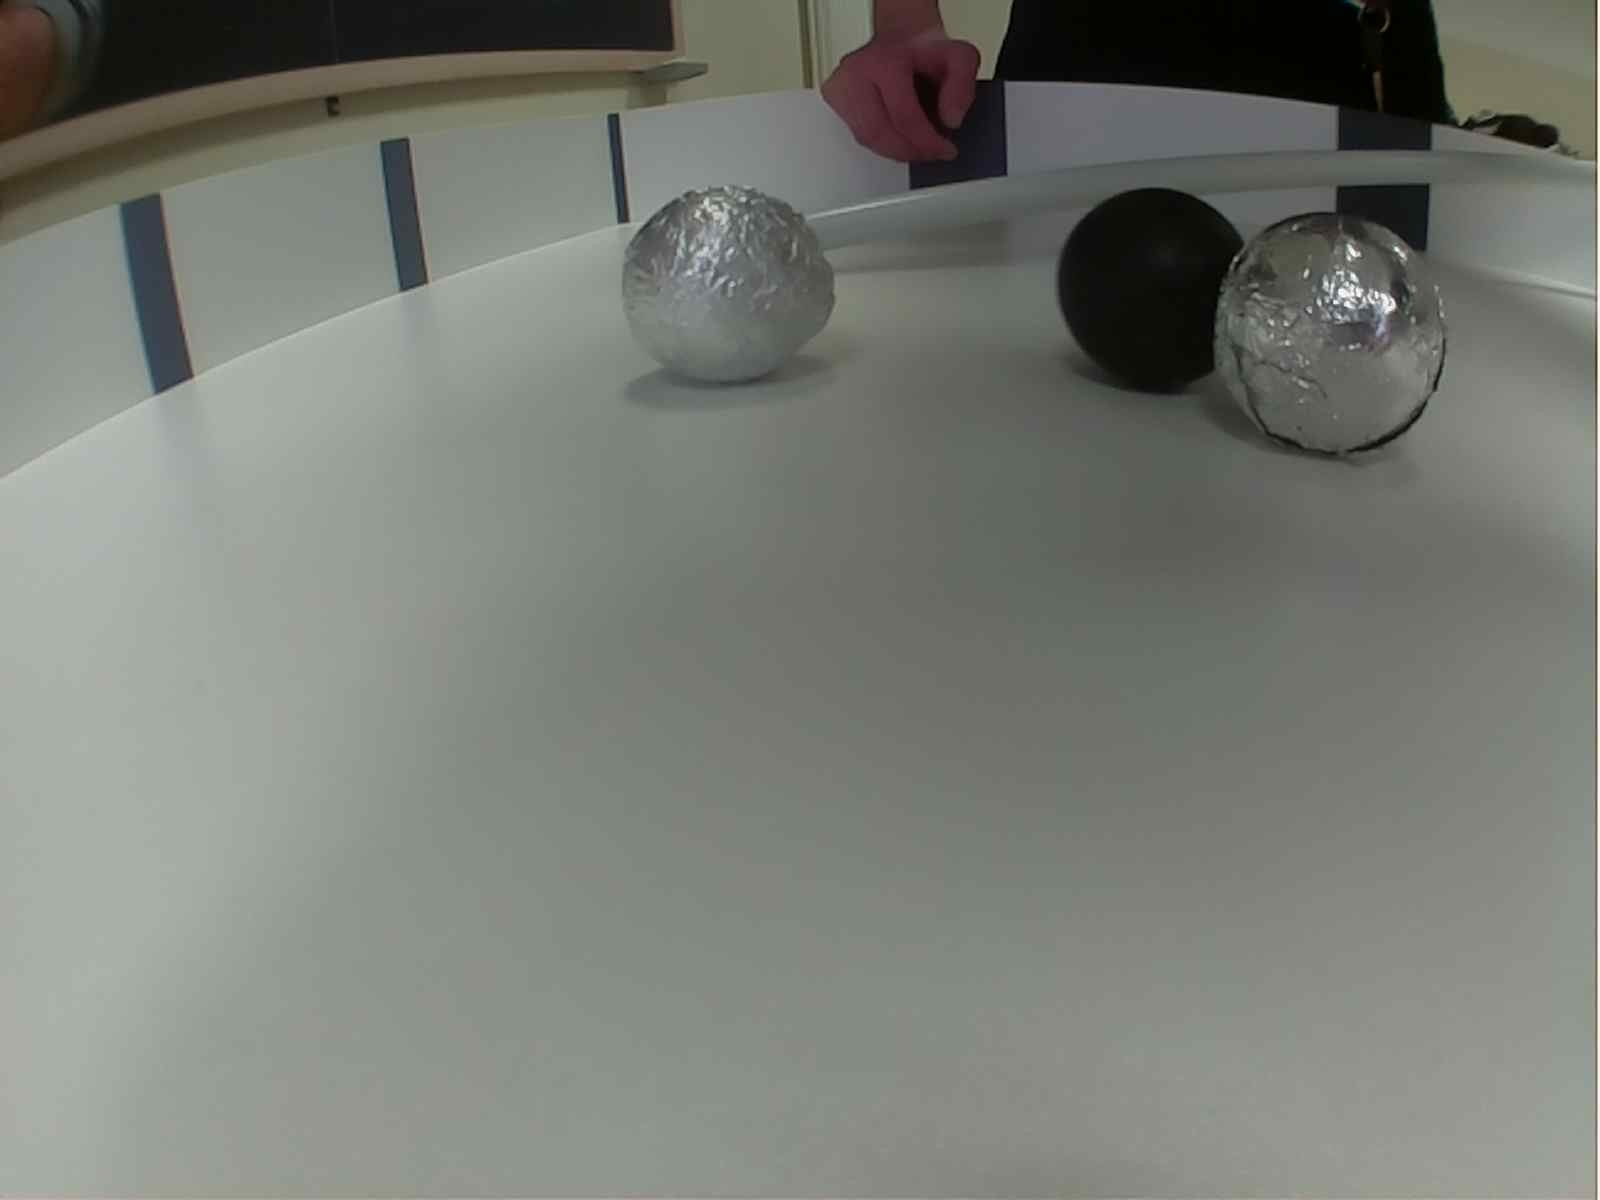bianca: (1207, 211, 1461, 458), (619, 183, 839, 389)
nera: (1052, 187, 1260, 396)
